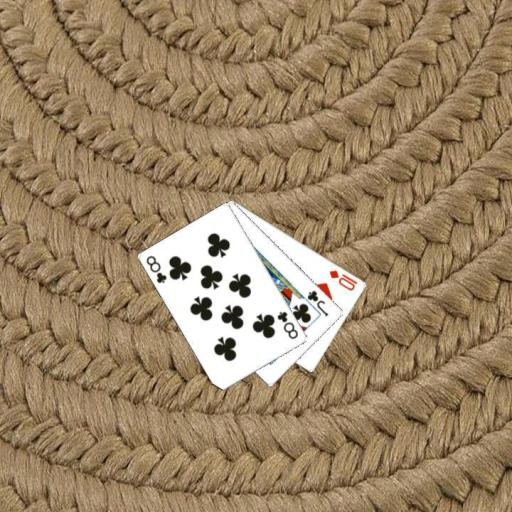10D: (327, 267, 359, 292)
8C: (275, 308, 300, 341), (143, 253, 168, 285)
JC: (304, 287, 330, 318)
